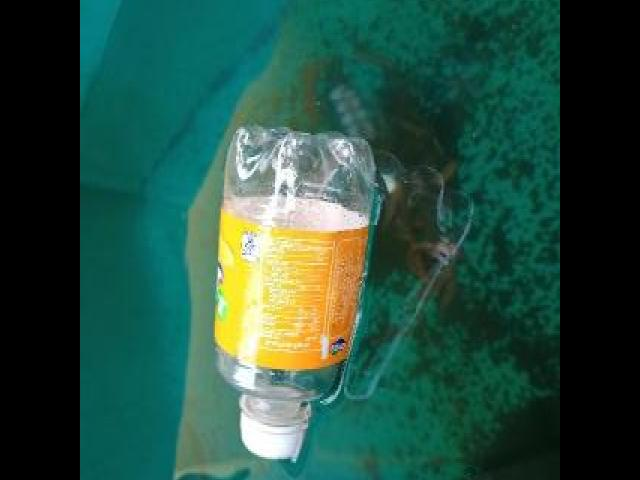Bottle: (215, 123, 382, 461)
